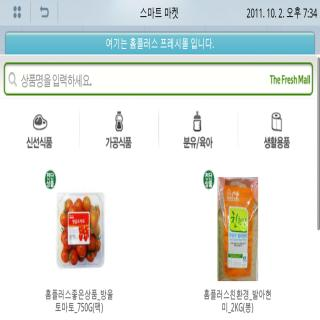tomato: (87, 232, 96, 252), (68, 248, 78, 264), (74, 196, 84, 211), (90, 208, 98, 226), (63, 198, 73, 212), (77, 241, 86, 256), (60, 226, 67, 244), (86, 248, 95, 262), (60, 250, 68, 264), (83, 196, 90, 211), (64, 232, 70, 248), (60, 212, 67, 224), (92, 205, 100, 214)
